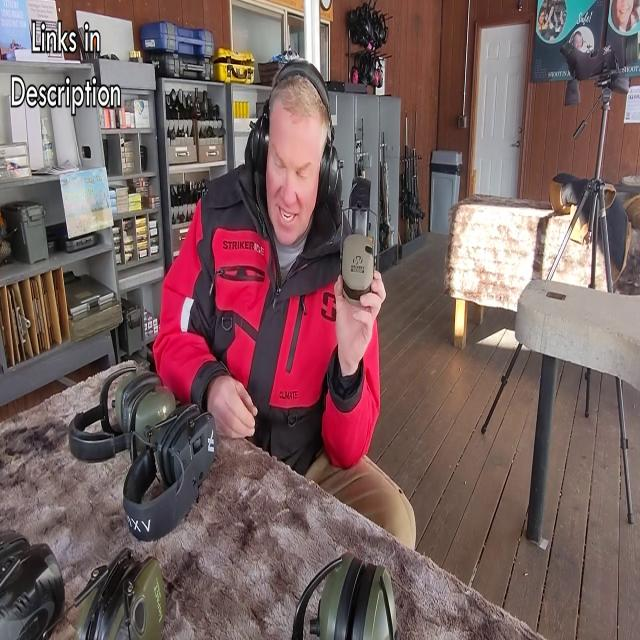earmuff: (340, 226, 378, 308), (316, 136, 346, 207), (247, 110, 273, 174)
